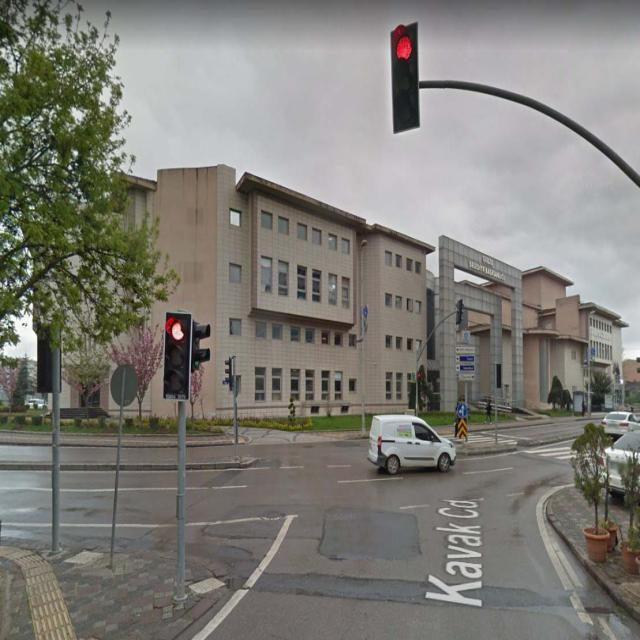ilerisol: (458, 404, 467, 418)
kirmizi: (391, 29, 418, 124), (166, 315, 186, 397)
